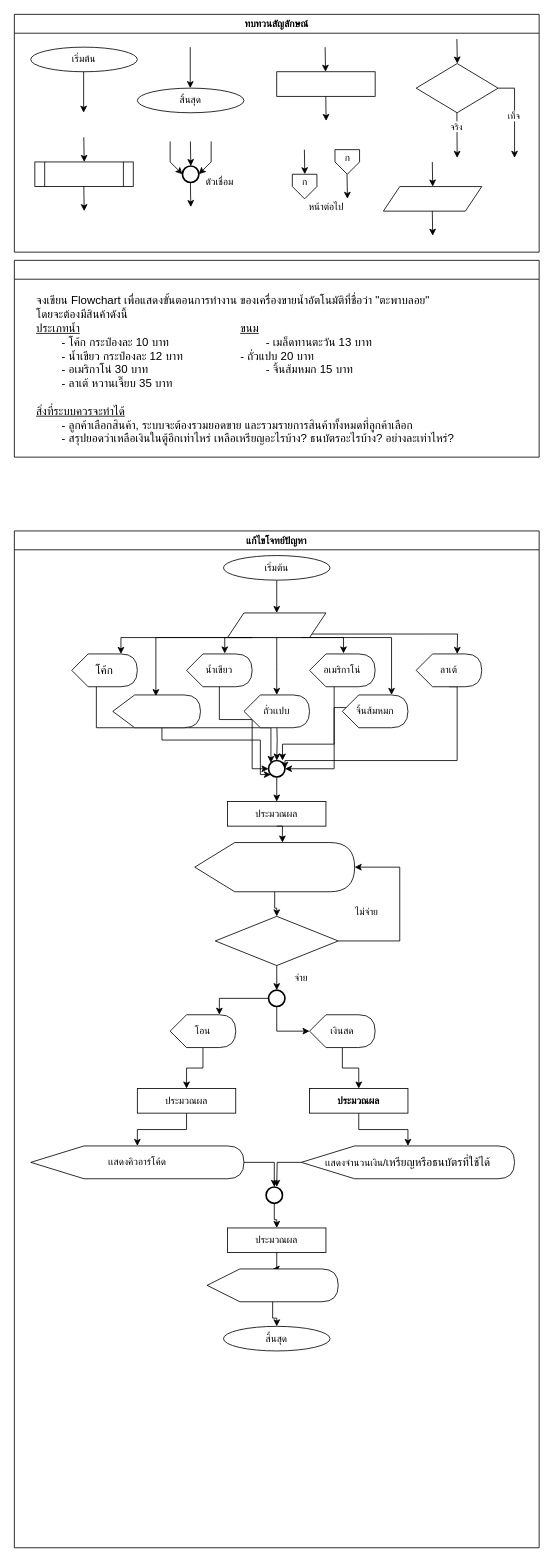
Image size: 554x1562. Some labels were removed from this diagram. Each missing label, with the box of its shape:
กระบวนการ: (276, 71, 375, 96)
จะจ่ายเงินเลยไหม: (214, 916, 338, 966)
ประโยคเงื่อนไข: (415, 63, 498, 113)
ฟังก์ชัน/โมดูล: (34, 161, 133, 187)
เมล็คทานตะวัน: (112, 694, 200, 728)
เลือกสินค้า: (227, 612, 326, 638)
เเสดงข้อความรอรับของ: (206, 1268, 338, 1302)
เเสดงรายการที่เลือก เเละ ราคา: (194, 842, 355, 892)
แสดงผล/รับค่า: (383, 186, 482, 211)
โจทย์ปัญหา: (14, 260, 539, 457)
